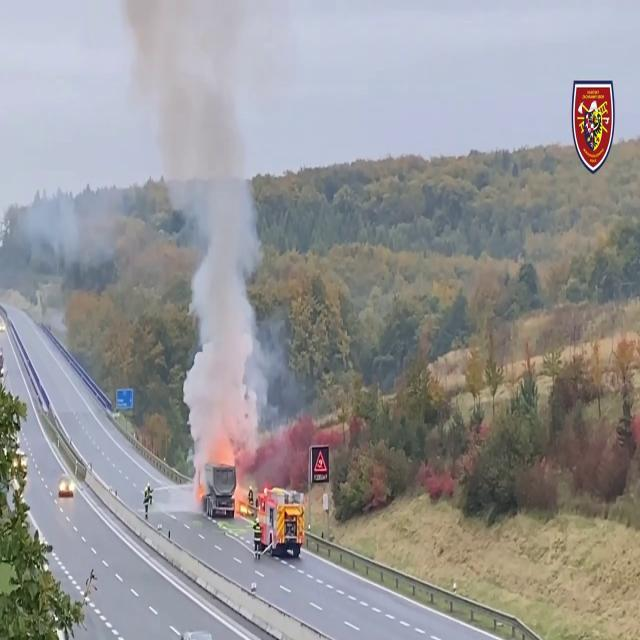Smoke: (158, 4, 298, 471)
